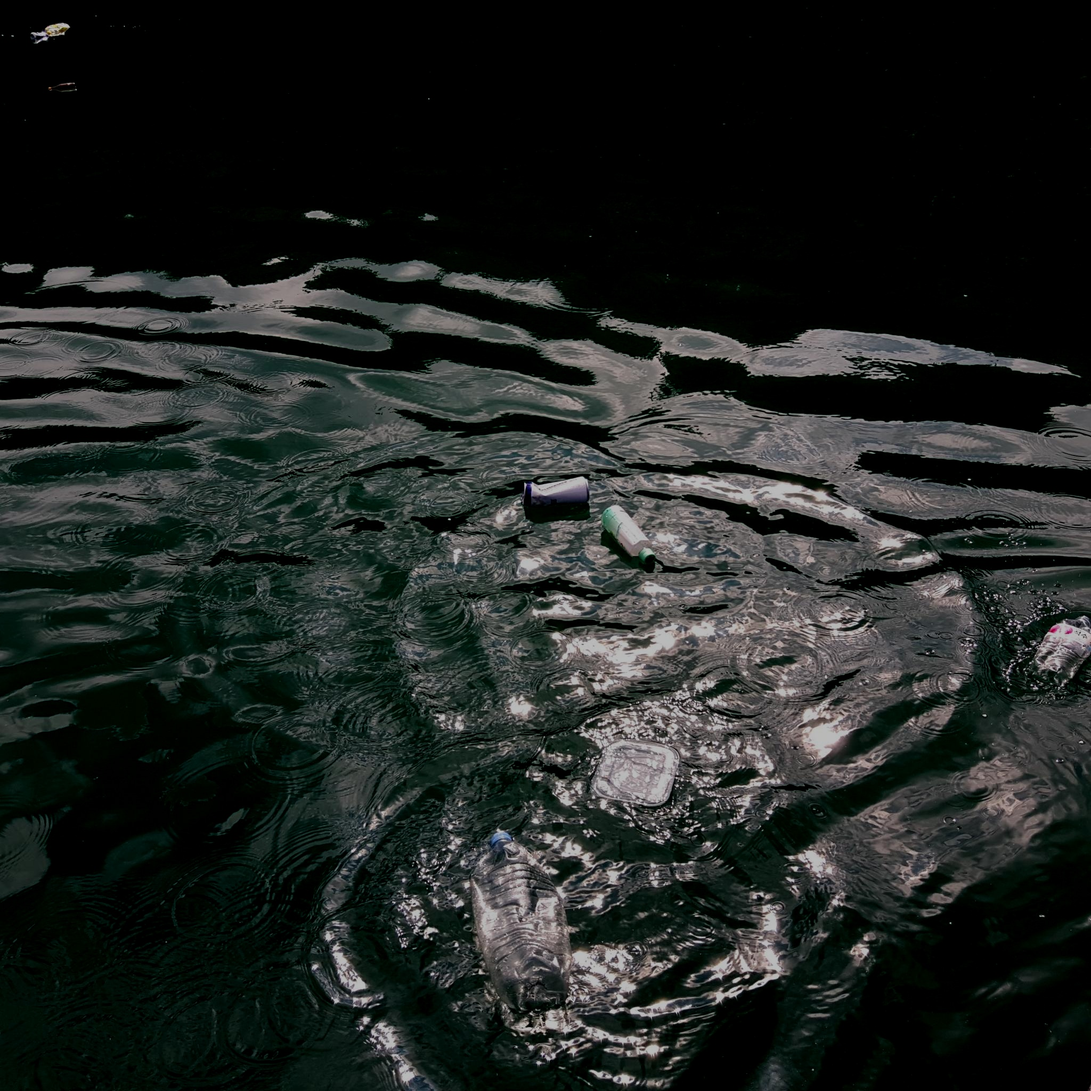sampah_terapung: (470, 831, 574, 1015), (1028, 616, 1091, 687), (601, 506, 657, 565), (521, 476, 590, 509), (45, 24, 71, 35), (48, 83, 77, 92), (30, 31, 49, 44)
